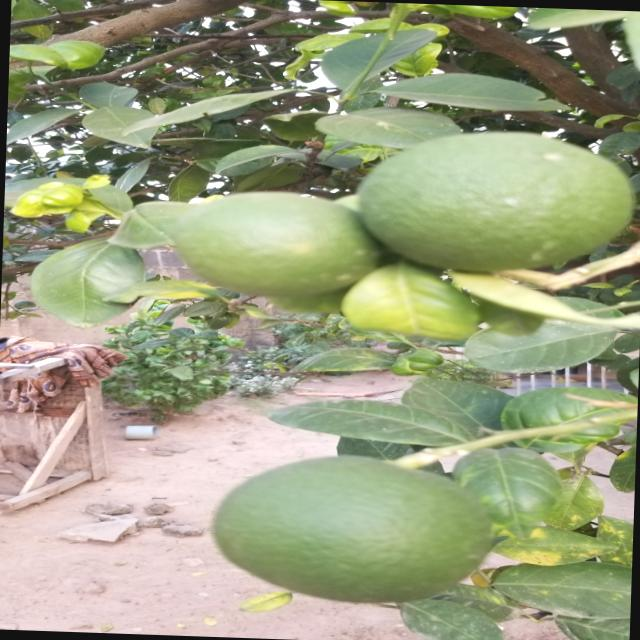Unripe: (157, 445, 505, 608), (335, 129, 640, 273), (148, 180, 410, 311)
